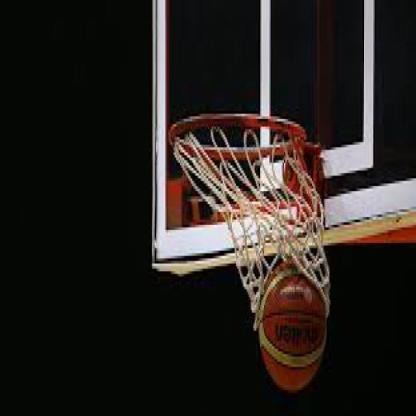basketball: (260, 258, 328, 396)
rim: (169, 113, 307, 166)
